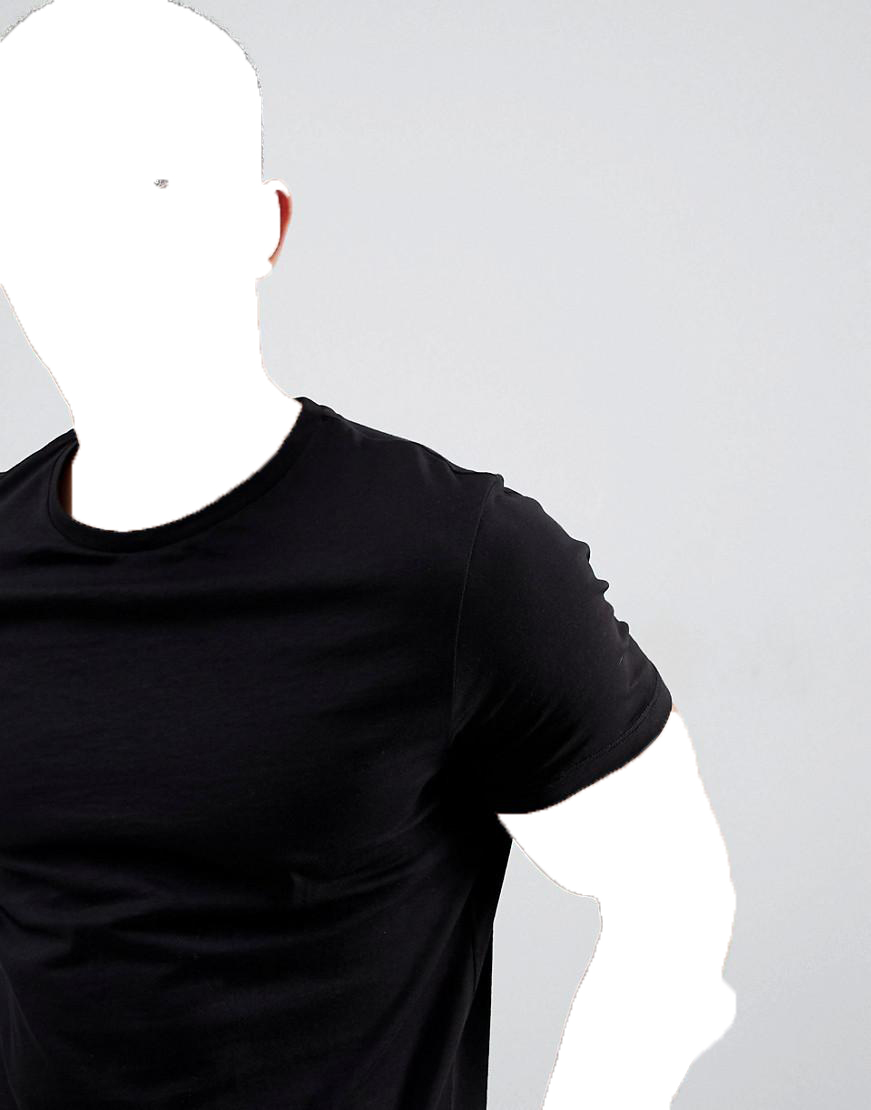teeshirt: (1, 393, 681, 1110)
